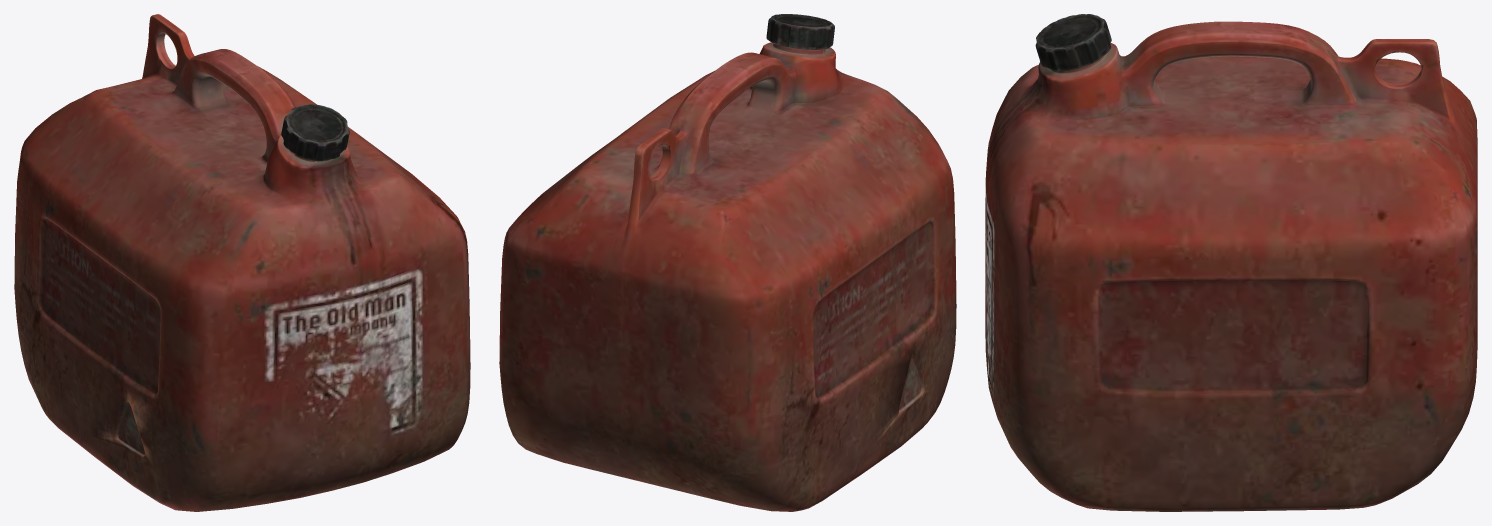
File: plastic_jerrycan.glb
3 renders of one model, left to right at view 1: azimuth 30°, elevation 25°; view 2: azimuth 150°, elevation 25°; view 3: azimuth 270°, elevation 25°, orthographic. The views are drawn at different scales.
Visible parts, largest first — view 1: plastic_jerrycan; view 2: plastic_jerrycan; view 3: plastic_jerrycan.
Boxes of the visible parts, bbox=[...] form: plastic_jerrycan: bbox=[14, 14, 470, 511]; plastic_jerrycan: bbox=[499, 14, 956, 511]; plastic_jerrycan: bbox=[985, 14, 1477, 511].
Size of the model in its own units: 0.268 by 0.3184 by 0.3409.
Materials: 1 (1 with a texture image).
